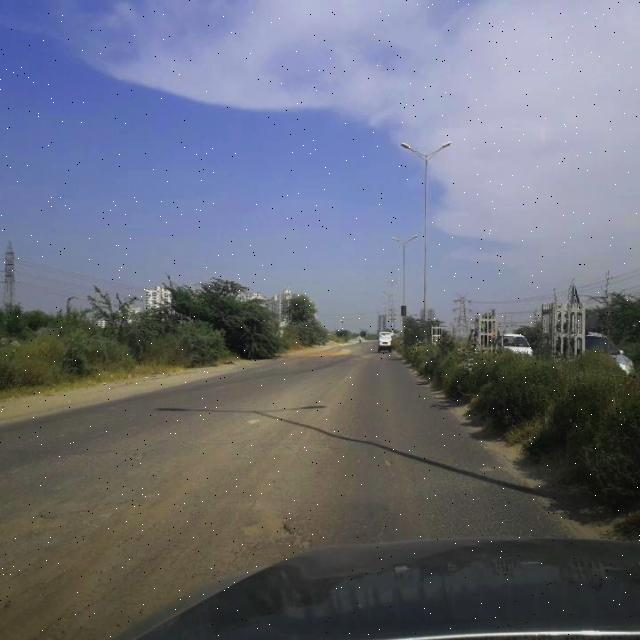D00: (367, 440, 405, 539)
D20: (180, 390, 370, 460), (411, 454, 528, 534)
D40: (0, 477, 142, 551), (220, 488, 314, 557)
